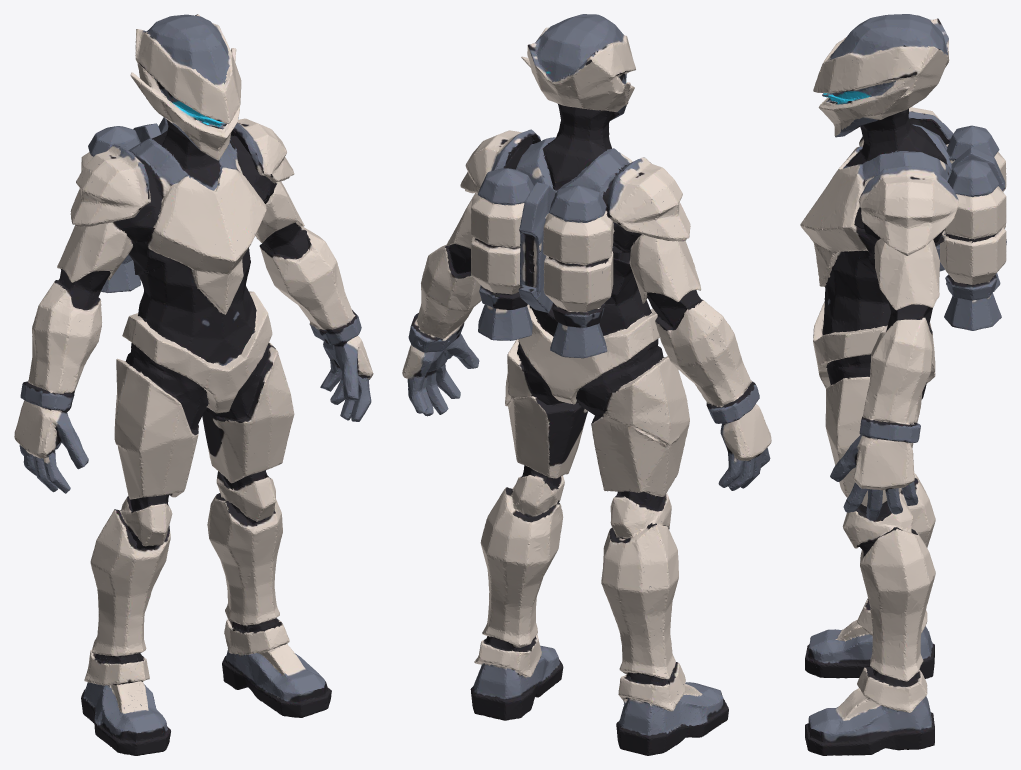
File: tactician-r2-s302-clean.glb
3 renders of one model, left to right at view 1: azimuth 30°, elevation 25°; view 2: azimuth 150°, elevation 25°; view 3: azimuth 270°, elevation 25°, orthographic. The views are drawn at different scales.
Parts seen in each view (by area): view 1: geometry_0; view 2: geometry_0; view 3: geometry_0.
Boxes of the visible parts, <box> form: geometry_0: <box>14,14,373,755</box>; geometry_0: <box>402,14,771,755</box>; geometry_0: <box>800,14,1006,755</box>.
Size of the model in its own units: 0.2612 by 0.501 by 0.1367.
1 material, 1 textured.
